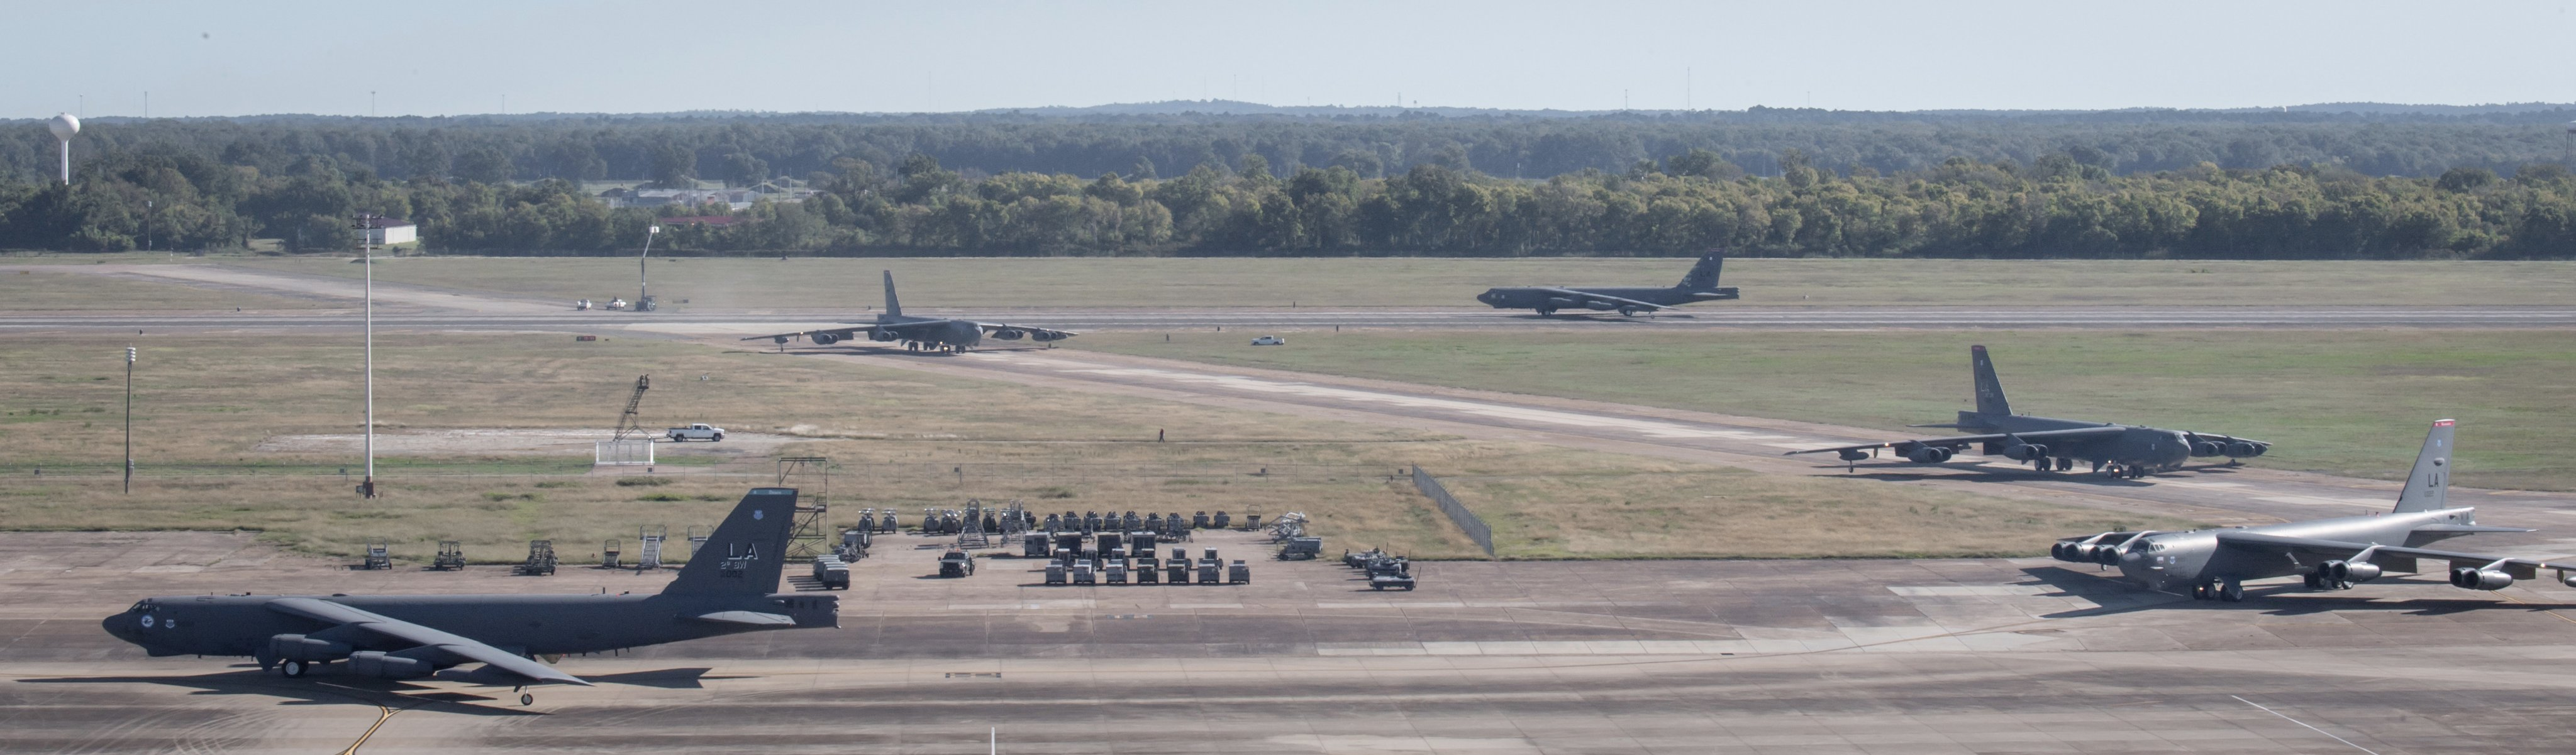B52: (102, 486, 843, 706), (2050, 417, 2576, 602), (1782, 345, 2274, 479), (739, 269, 1079, 355), (1475, 248, 1741, 320)
